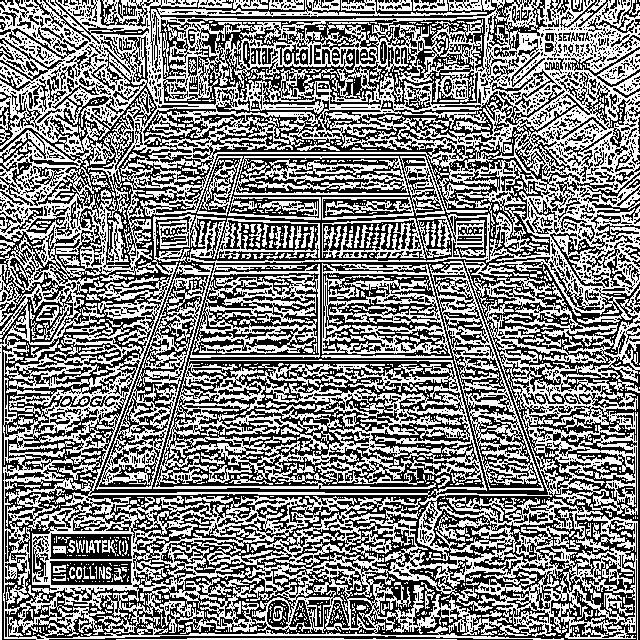left side: (93, 154, 243, 491), (398, 154, 546, 493)
player: (410, 471, 478, 593), (310, 92, 329, 148)
